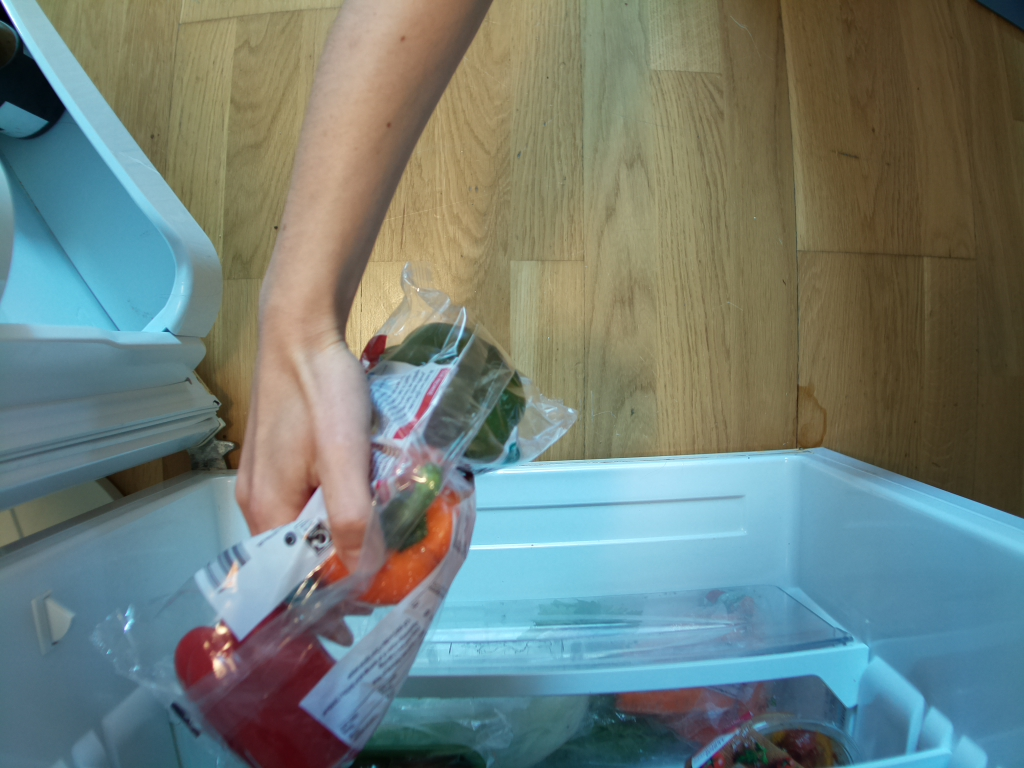pepper: (173, 602, 367, 768), (355, 327, 527, 469), (319, 457, 468, 611)
